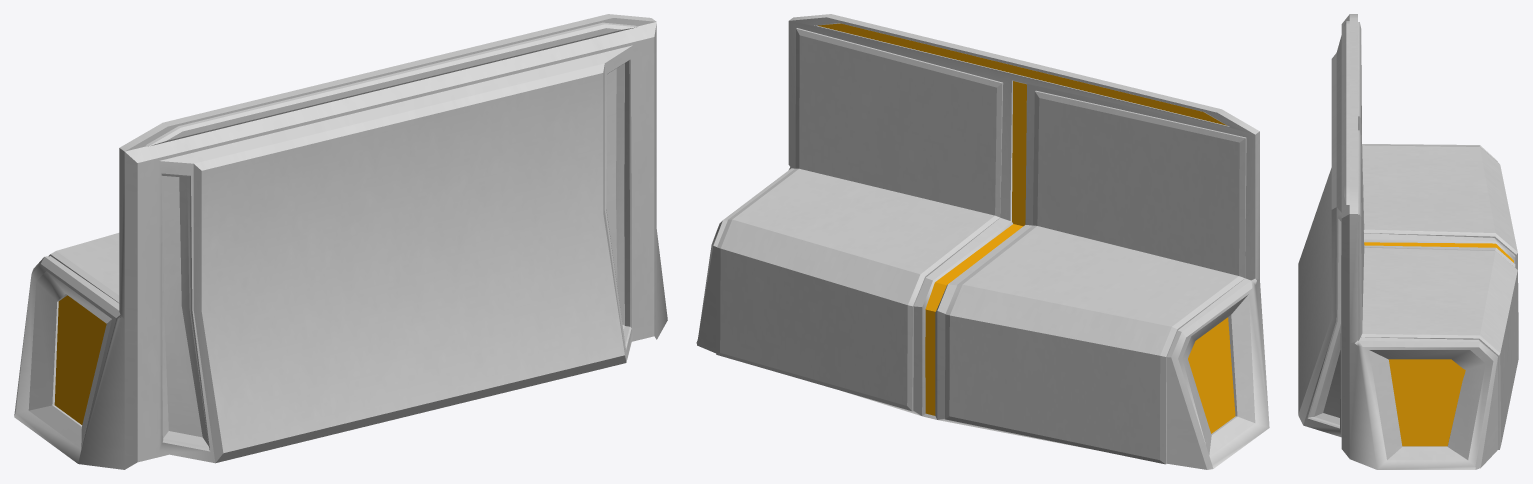
Rendered from FUR0310010.fbx.
3 renders of one model, left to right at view 1: azimuth 30°, elevation 25°; view 2: azimuth 150°, elevation 25°; view 3: azimuth 270°, elevation 25°, orthographic. The views are drawn at different scales.
Parts seen in each view (by area): view 1: smFUR0310010; view 2: smFUR0310010; view 3: smFUR0310010.
Boxes of the visible parts, bbox=[...] form: smFUR0310010: bbox=[14, 14, 667, 469]; smFUR0310010: bbox=[696, 14, 1269, 469]; smFUR0310010: bbox=[1298, 14, 1518, 469].
Size of the model in its own units: 273 by 147 by 115.
1 material, 1 textured.
